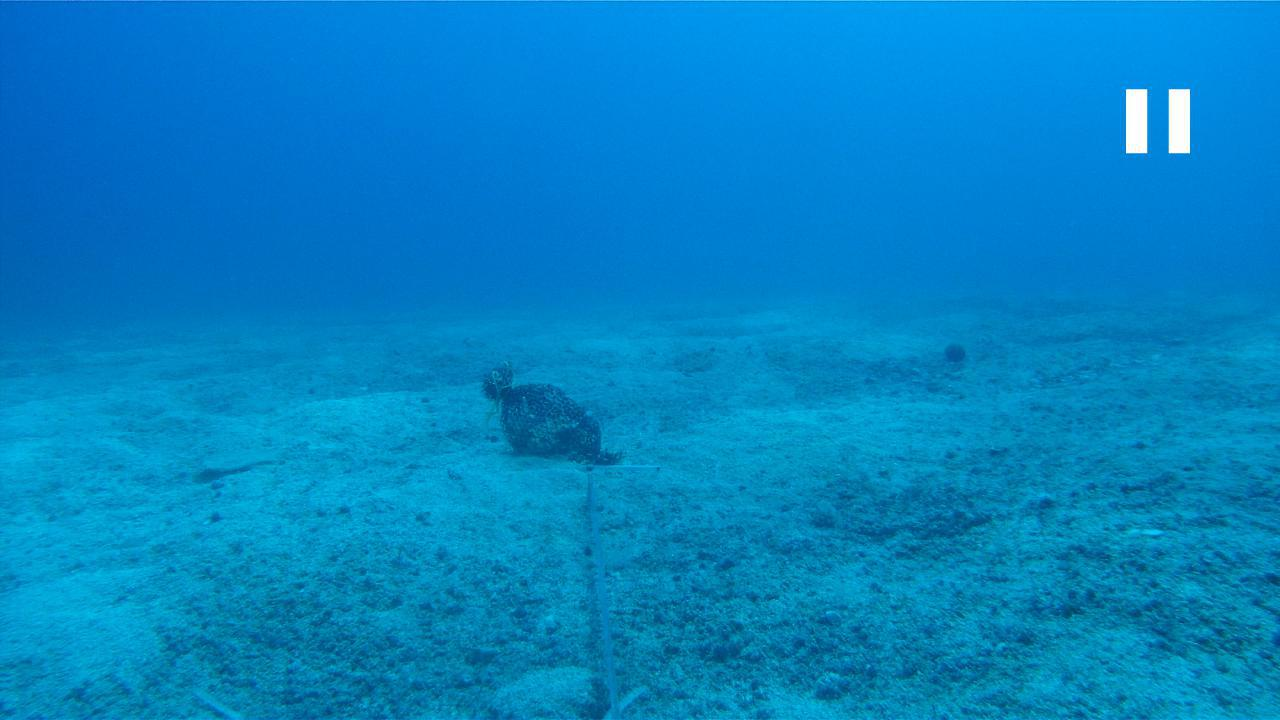bothus: (200, 445, 278, 474)
